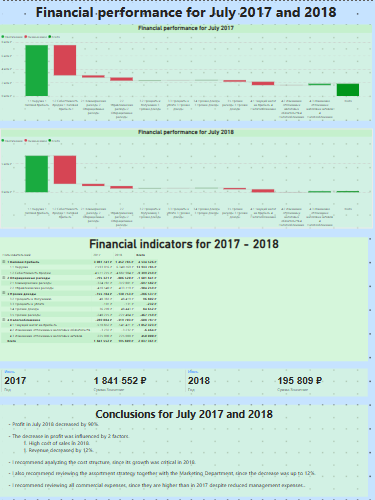

What the dashboard file says about the page in this screenshot:
{"tool":"powerbi","page":{"name":"Страница 3","canvas":[1500,2000],"ordinal":0},"visuals":[{"type":"waterfallChart","title":"Financial performance for July 2017","fields":{"Category":["Данные по месяцам.Сведено","Данные по месяцам.Пользовательский","Данные по месяцам.месяц.Изменение.Иерархия дат.Год"],"Y":["Sum(Данные по месяцам.Значение)"]},"box":[0,96,1488,384],"z":0},{"type":"waterfallChart","title":"Financial performance for July 2018","fields":{"Category":["Данные по месяцам.Сведено","Данные по месяцам.Пользовательский","Данные по месяцам.месяц.Изменение.Иерархия дат.Год"],"Y":["Sum(Данные по месяцам.Значение)"]},"box":[0,512,1488,400],"z":1000},{"type":"multiRowCard","fields":{"Values":["Данные по месяцам.месяц.Изменение.Иерархия дат.Год","Данные по месяцам.месяц.Изменение.Иерархия дат.Месяц","Sum(Данные по месяцам.Значение)"]},"box":[0,1472,736,112],"z":2000},{"type":"multiRowCard","fields":{"Values":["Данные по месяцам.месяц.Изменение.Иерархия дат.Год","Данные по месяцам.месяц.Изменение.Иерархия дат.Месяц","Sum(Данные по месяцам.Значение)"]},"box":[736,1472,736,112],"z":3000},{"type":"pivotTable","title":"Financial indicators for 2017 - 2018","fields":{"Values":["Sum(Данные по месяцам.Значение)"],"Rows":["Данные по месяцам.Пользовательский","Данные по месяцам.Сведено"],"Columns":["Данные по месяцам.месяц.Изменение.Иерархия дат.Год","Данные по месяцам.месяц.Изменение.Иерархия дат.Месяц"]},"box":[0,944,1472,496],"z":4000},{"type":"textbox","box":[0,0,1488,112],"z":5000},{"type":"textbox","box":[0,1616,1472,368],"z":6000}]}

Visuals, with their boxes in screenshot pixels (x1, y1, x2, y2), scaled from the page's 1500x2000 canvas onto the 375x500 screenshot:
"Financial performance for July 2017" waterfallChart: Rect(0, 24, 372, 120)
"Financial performance for July 2018" waterfallChart: Rect(0, 128, 372, 228)
multiRowCard - Данные по месяцам.месяц.Изменение.Иерархия дат.Год x Данные по месяцам.месяц.Изменение.Иерархия дат.Месяц: Rect(0, 368, 184, 396)
multiRowCard - Данные по месяцам.месяц.Изменение.Иерархия дат.Год x Данные по месяцам.месяц.Изменение.Иерархия дат.Месяц: Rect(184, 368, 368, 396)
"Financial indicators for 2017 - 2018" pivotTable: Rect(0, 236, 368, 360)
textbox: Rect(0, 0, 372, 28)
textbox: Rect(0, 404, 368, 496)
